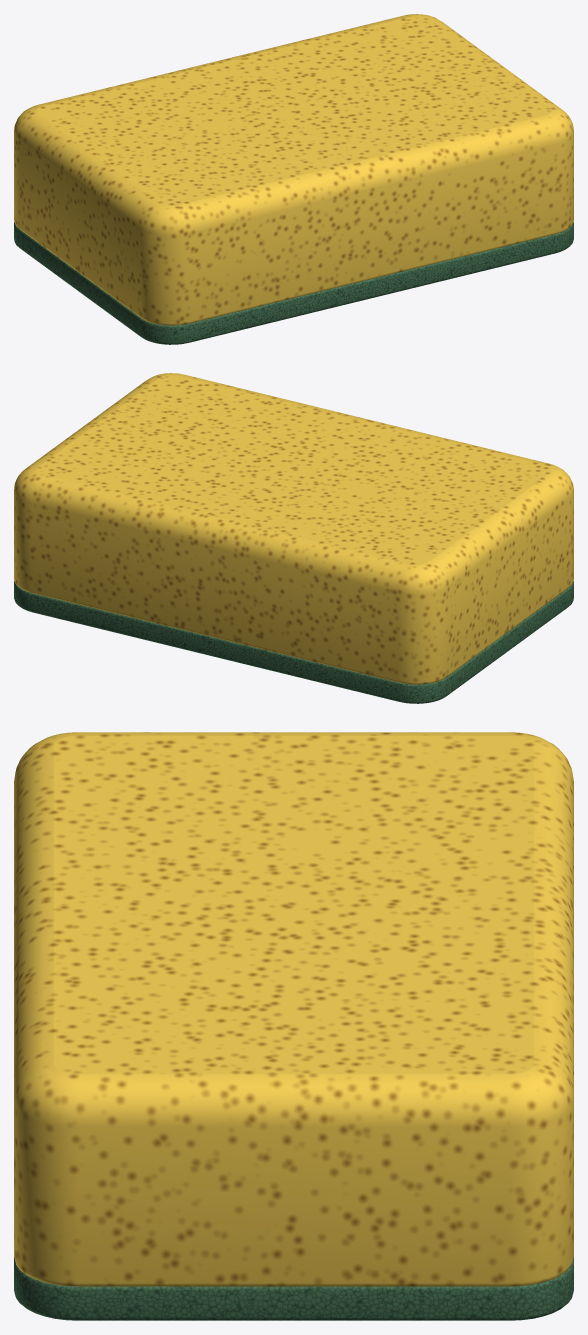
Rendered from sponge-standard.glb.
3 views of the same model, one above another, from view 1: azimuth 30°, elevation 25°; view 2: azimuth 150°, elevation 25°; view 3: azimuth 270°, elevation 25° (orthographic). The views are drawn at different scales.
Parts seen in each view (by area): view 1: Sponge_Foam, Sponge_Scrub_Pad; view 2: Sponge_Foam, Sponge_Scrub_Pad; view 3: Sponge_Foam, Sponge_Scrub_Pad.
Boxes of the visible parts, x1,y1,x2,y2 form: Sponge_Foam: (14, 14, 573, 325); Sponge_Scrub_Pad: (14, 222, 573, 344); Sponge_Foam: (14, 373, 573, 684); Sponge_Scrub_Pad: (14, 581, 573, 703); Sponge_Foam: (14, 732, 573, 1286); Sponge_Scrub_Pad: (14, 1257, 573, 1320).
Bounding box in the file's own units: 0.11 × 0.032 × 0.07.
2 materials, 2 textured.
